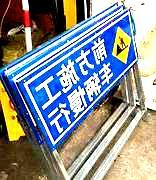sign: (23, 15, 132, 145)
